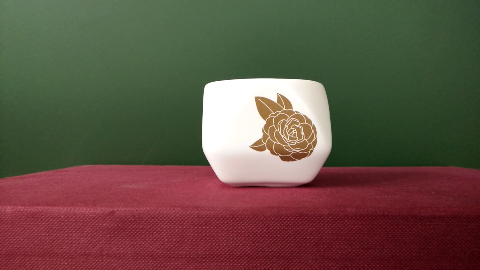flower: (246, 91, 318, 164)
